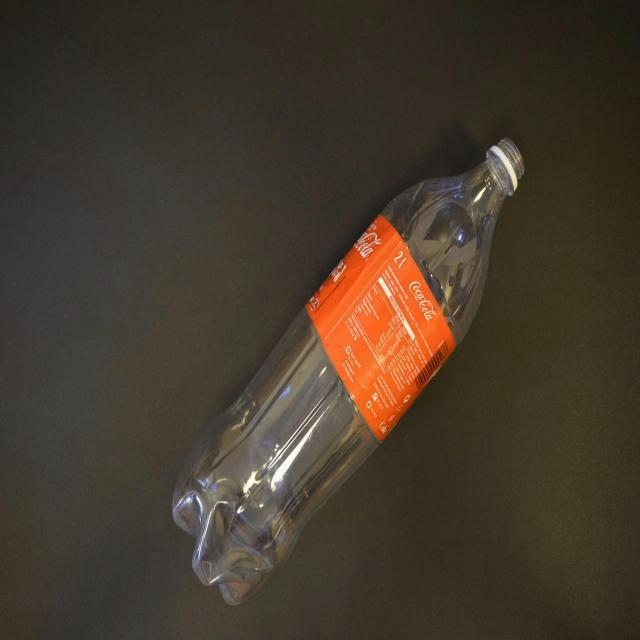bottle: (171, 138, 525, 608)
